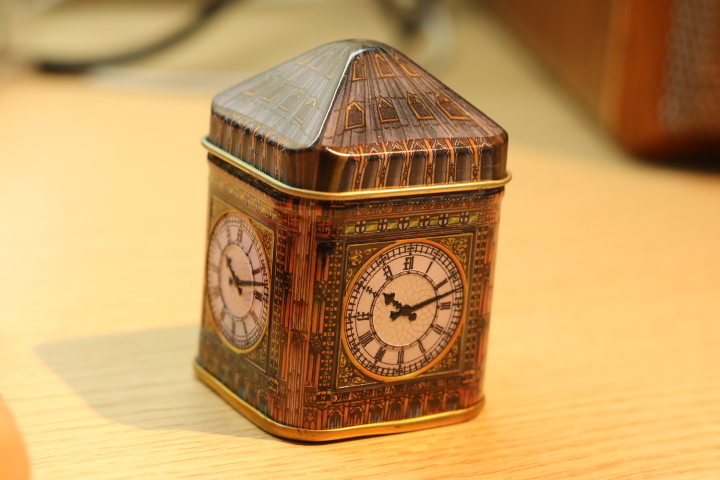Big Ben: (189, 34, 520, 449)
